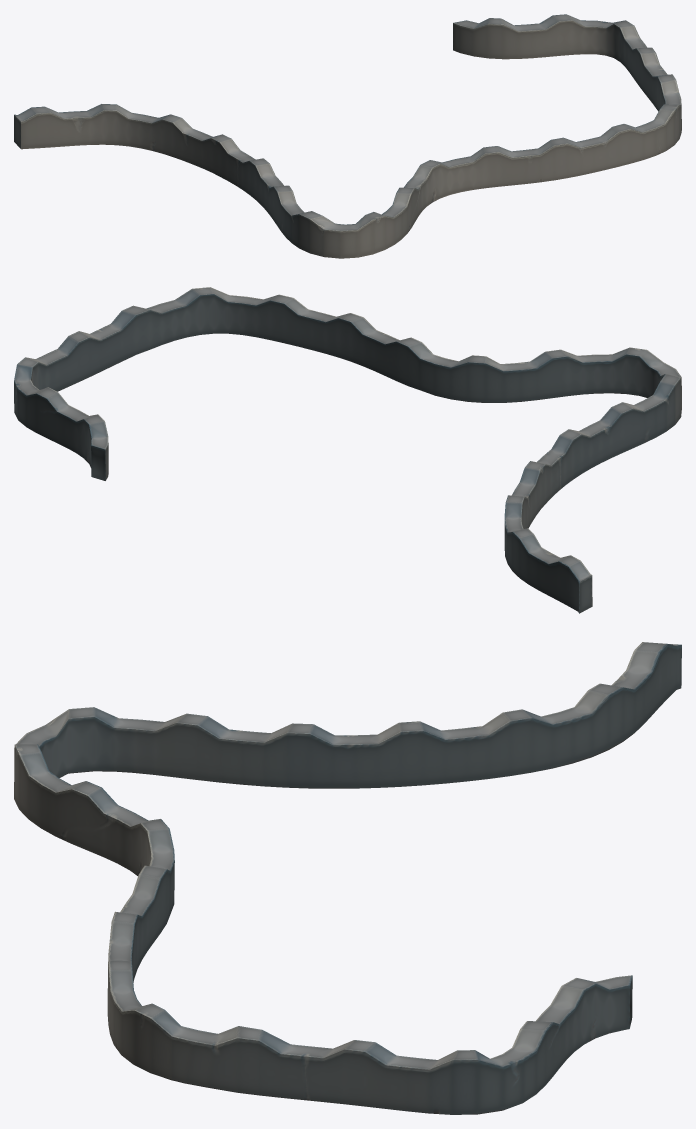
File: Zone1_Path_Wall.fbx
The picture shows the model from 3 angles, top to bottom: view 1: azimuth 30°, elevation 25°; view 2: azimuth 150°, elevation 25°; view 3: azimuth 270°, elevation 25°; orthographic projection. The views are drawn at different scales.
Visible parts, largest first — view 1: Zone1_Small_Wall_LOW; view 2: Zone1_Small_Wall_LOW; view 3: Zone1_Small_Wall_LOW.
Boxes of the visible parts, x1=… form: Zone1_Small_Wall_LOW: x1=14, y1=14, x2=681, y2=258; Zone1_Small_Wall_LOW: x1=14, y1=287, x2=681, y2=613; Zone1_Small_Wall_LOW: x1=14, y1=642, x2=681, y2=1114.
Bounding box in the file's own units: 2534 × 169 × 1666.
Materials: 1 (1 with a texture image).
